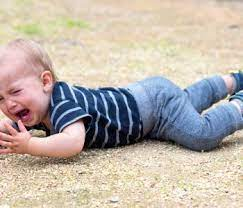child: (1, 37, 243, 166)
